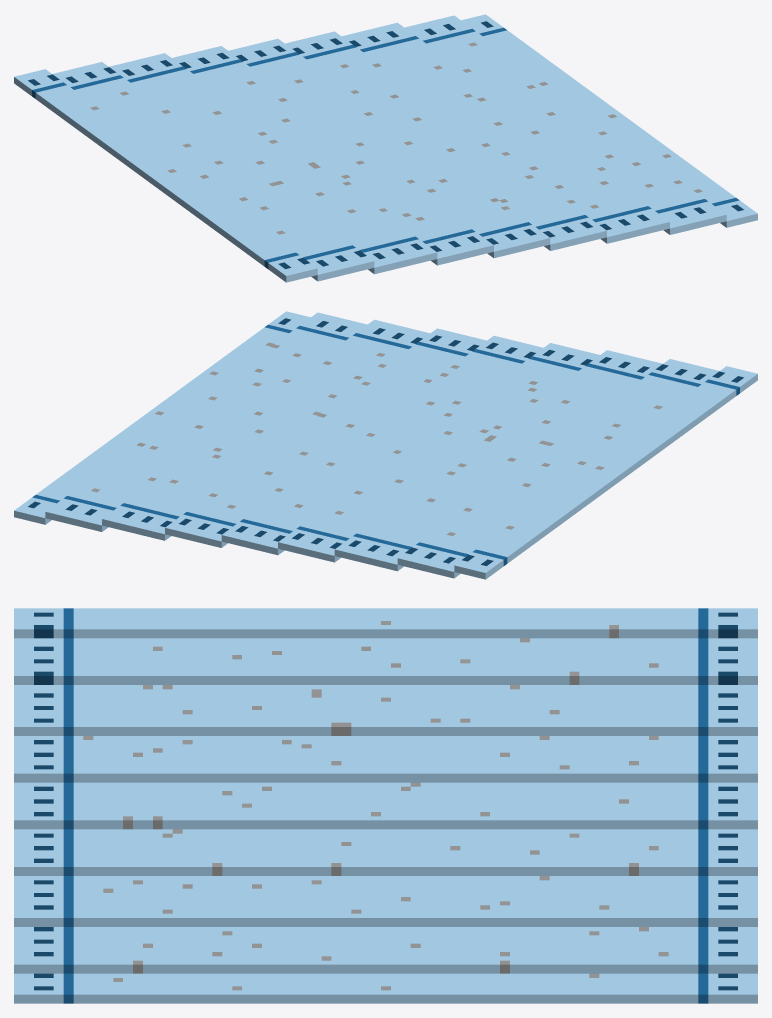
File: incline-0.obj
The picture shows the model from 3 angles, top to bottom: view 1: azimuth 30°, elevation 25°; view 2: azimuth 150°, elevation 25°; view 3: azimuth 270°, elevation 25°; orthographic projection. The views are drawn at different scales.
Parts seen in each view (by area): view 1: incline-0; view 2: incline-0; view 3: incline-0.
Boxes of the visible parts, x1,y1,x2,y2 form: incline-0: (14, 14, 757, 282); incline-0: (14, 311, 757, 579); incline-0: (14, 608, 757, 1003).
Size of the model in its own units: 75 by 9 by 75.
1 material, 1 textured.
